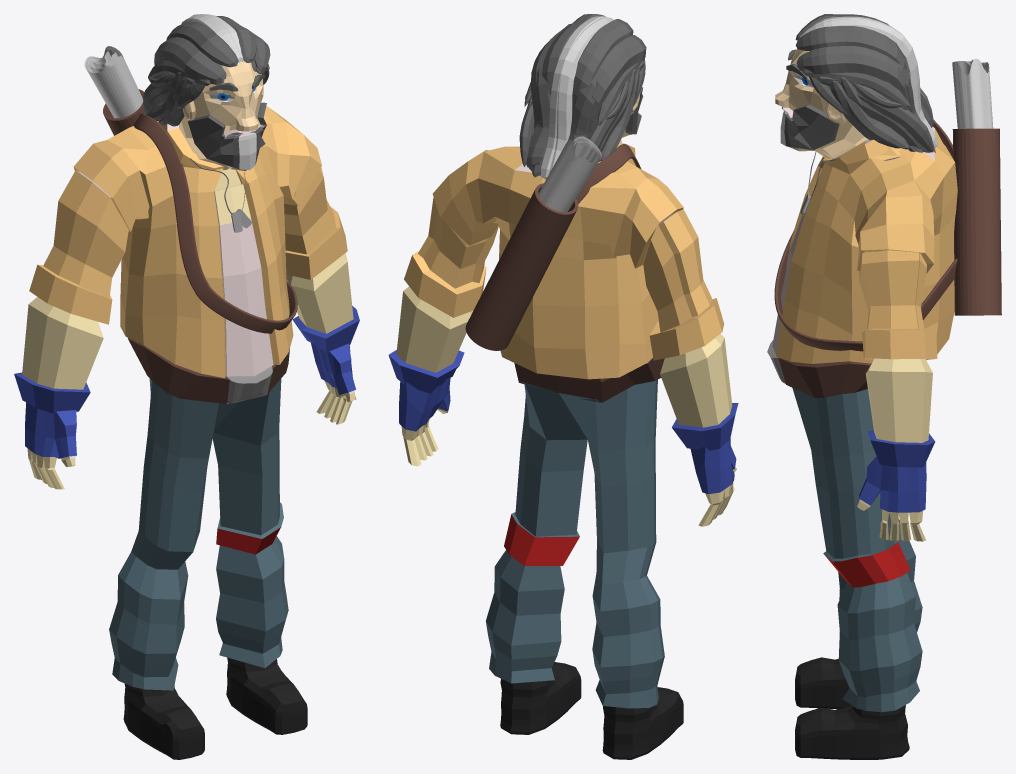
File: haritacı.fbx
3 renders of one model, left to right at view 1: azimuth 30°, elevation 25°; view 2: azimuth 150°, elevation 25°; view 3: azimuth 270°, elevation 25°, orthographic.
Parts seen in each view (by area): view 1: Plane, Plane.001; view 2: Plane, Plane.001; view 3: Plane, Plane.001.
Part boxes in pixels (x1,y1,x2,y2): Plane: [14, 14, 359, 690]; Plane.001: [123, 657, 307, 759]; Plane: [388, 14, 738, 708]; Plane.001: [500, 662, 683, 759]; Plane: [767, 14, 1001, 712]; Plane.001: [795, 657, 909, 759].
Size of the model in its own units: 115 by 233 by 70.22.
1 material, 1 textured.
